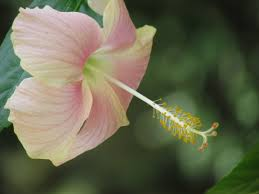hybiscus: (7, 1, 221, 166)
